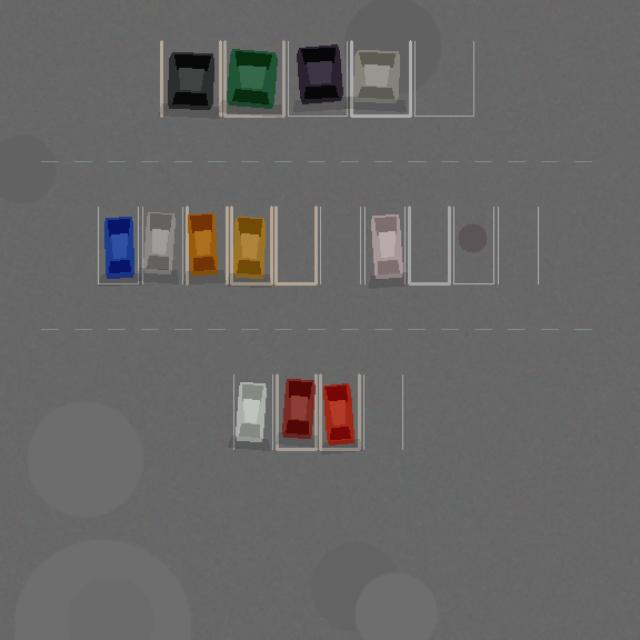space-empty: (414, 41, 473, 116), (276, 207, 316, 283), (320, 207, 360, 283), (409, 207, 449, 283), (453, 207, 493, 283), (498, 207, 538, 283), (363, 374, 402, 449)
space-occupied: (161, 41, 220, 116), (224, 41, 283, 116), (288, 41, 347, 116), (351, 41, 410, 116), (98, 207, 138, 283), (142, 207, 182, 283), (187, 207, 227, 283), (231, 207, 271, 283), (364, 207, 404, 283), (233, 374, 272, 449), (277, 374, 316, 449), (320, 374, 359, 449)
